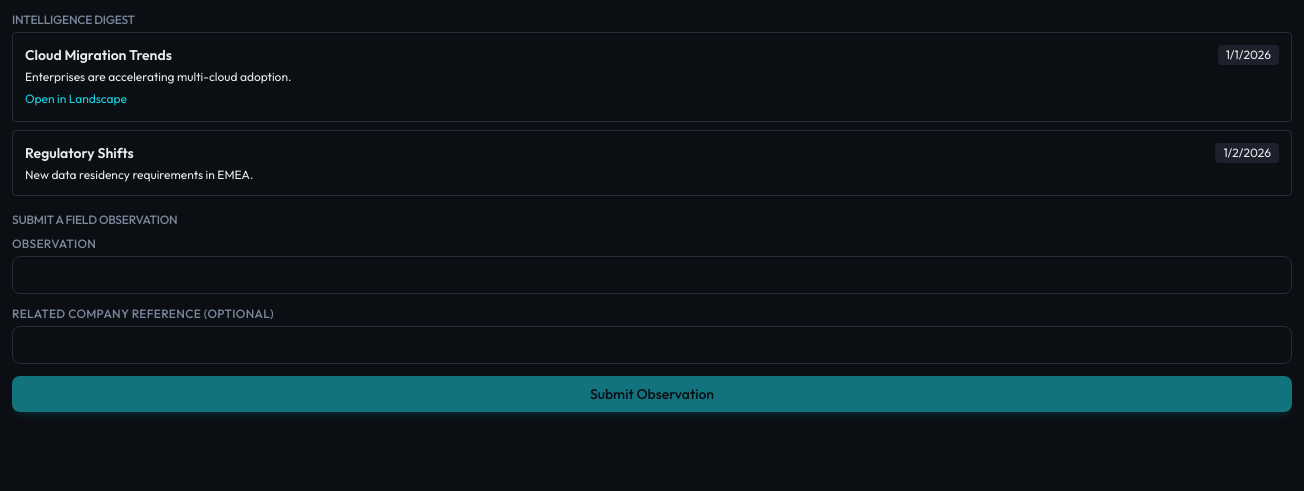
Test case: LandscapeWorkspace › submits an observation via POST, omitting related_company_reference when blank, and clears the form on success
Expected: the text "Cloud Migration Trends" is shown, [25,45,172,65]
Type "Client mentioned a competitor launch." into the field labelled "Observation" at [652, 275], box [12,256,1292,294]
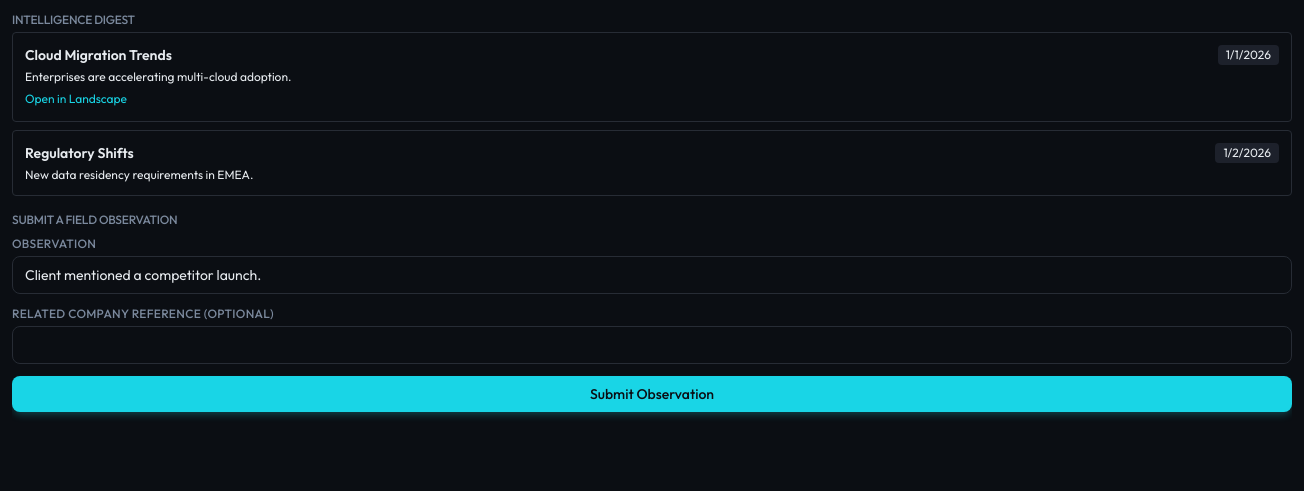
Click the button "Submit Observation" at [652, 394], box [12,376,1292,412]
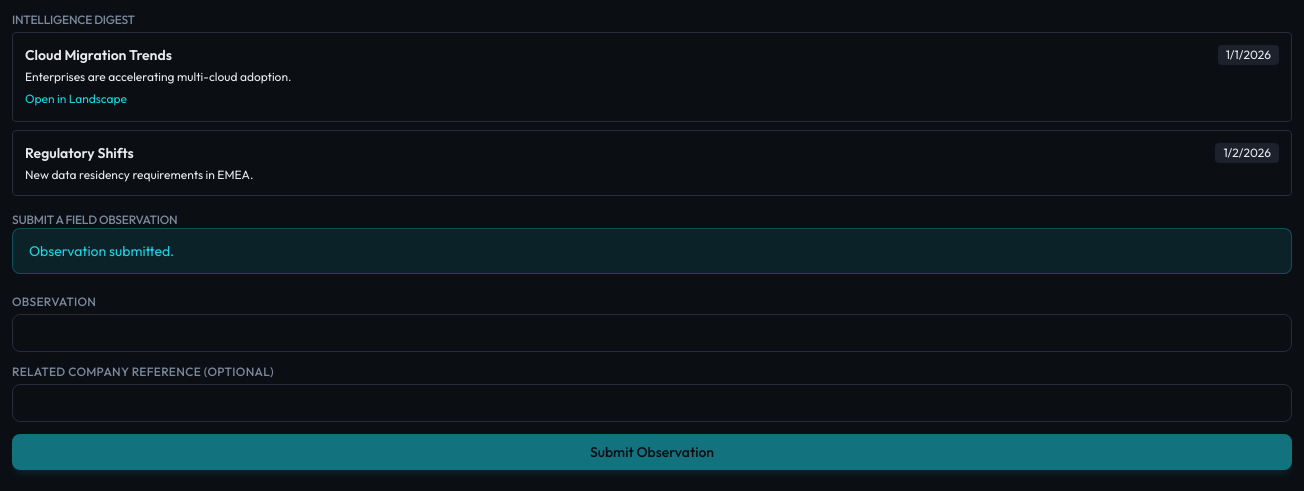
Now the text "Observation submitted." is shown, box [12,228,1292,274]
Now the field labelled "Observation" is empty, box [12,314,1292,352]
